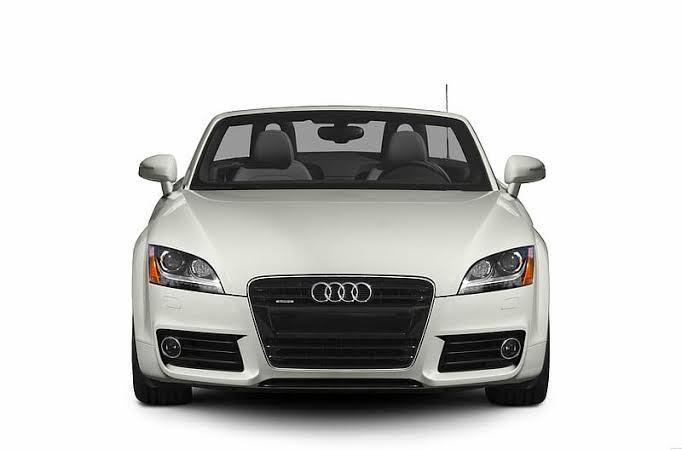audi: (105, 73, 560, 422)
